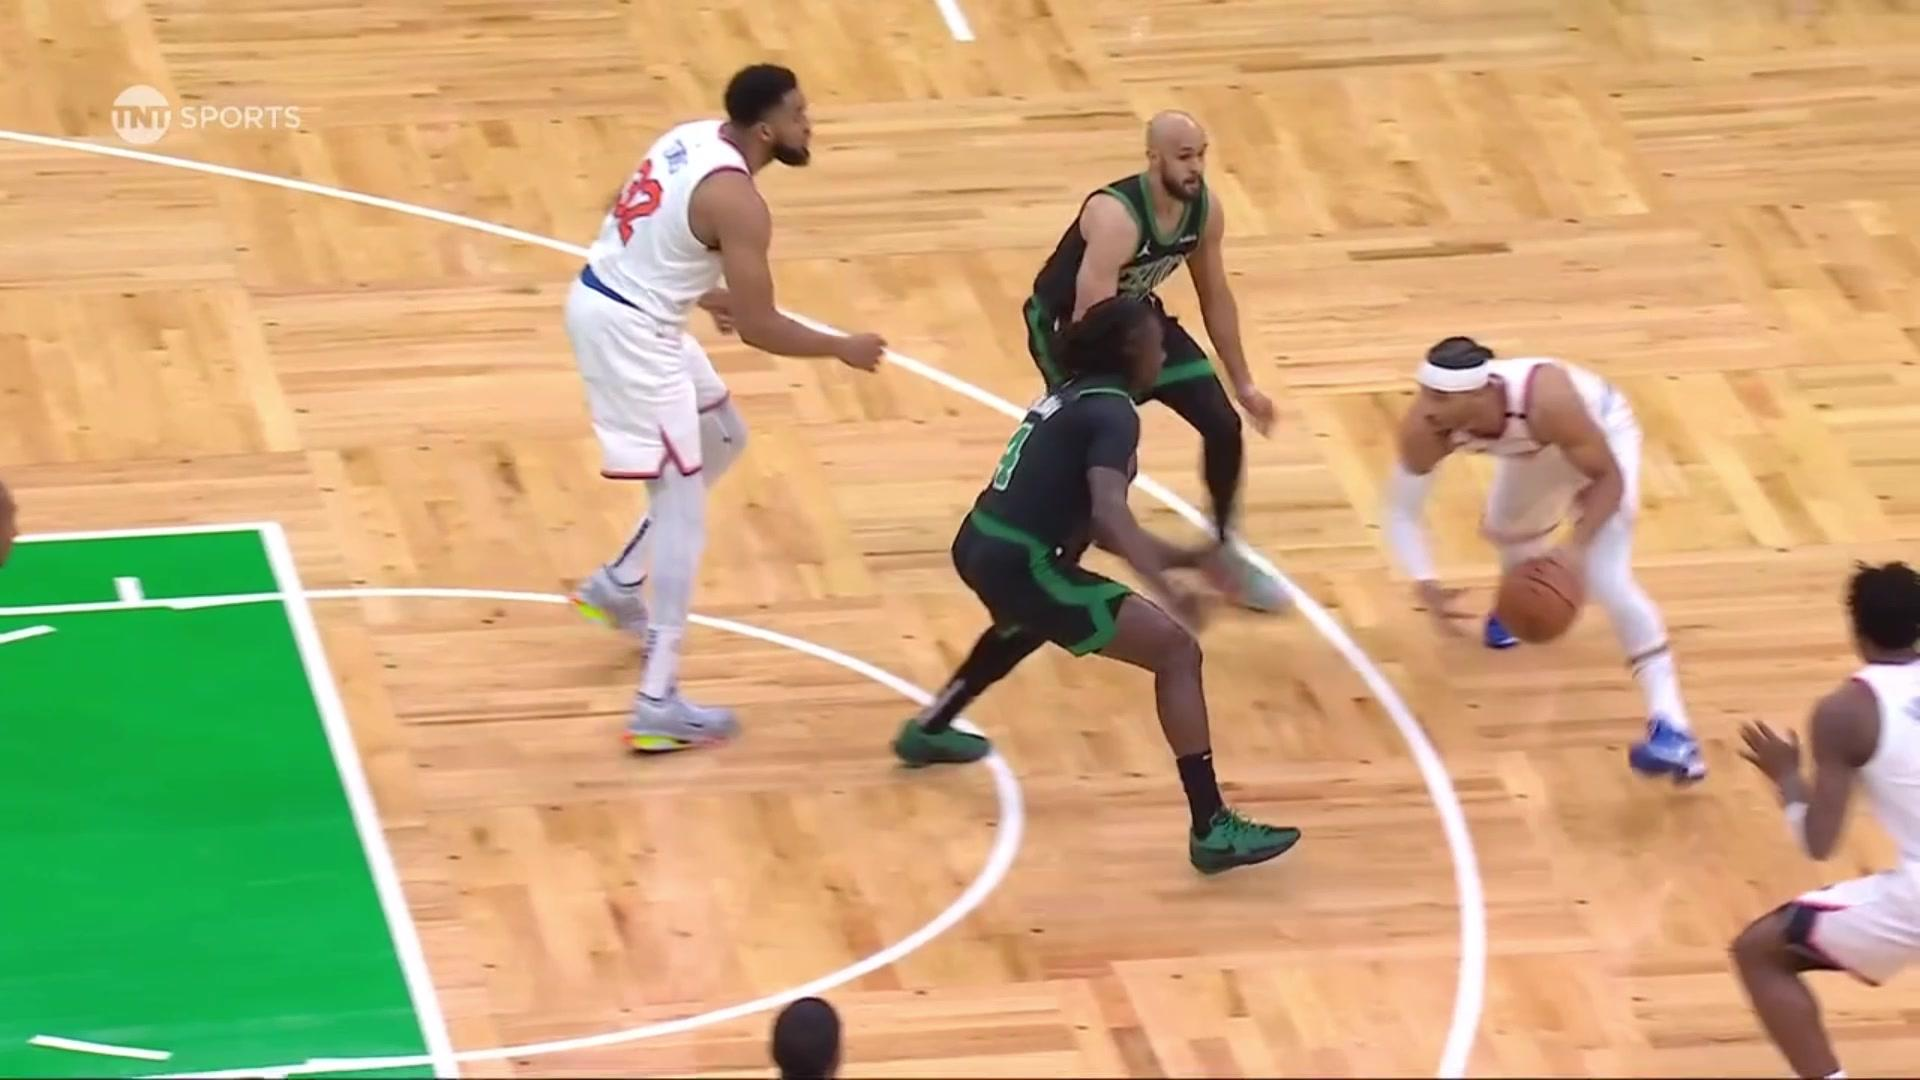no_foul: (936, 290, 1727, 873)
